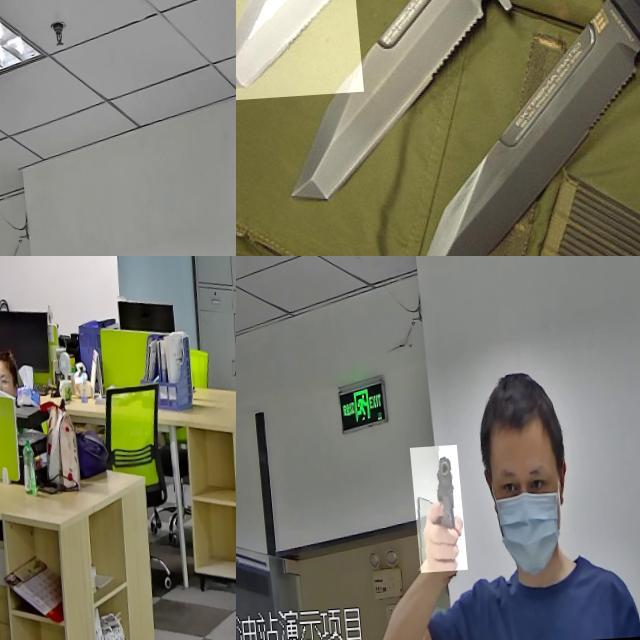-: (373, 18, 640, 256), (258, 0, 492, 205), (236, 0, 357, 102)
gun-knife-thesis - v11 Yolov5 augmented: (402, 448, 458, 576)
